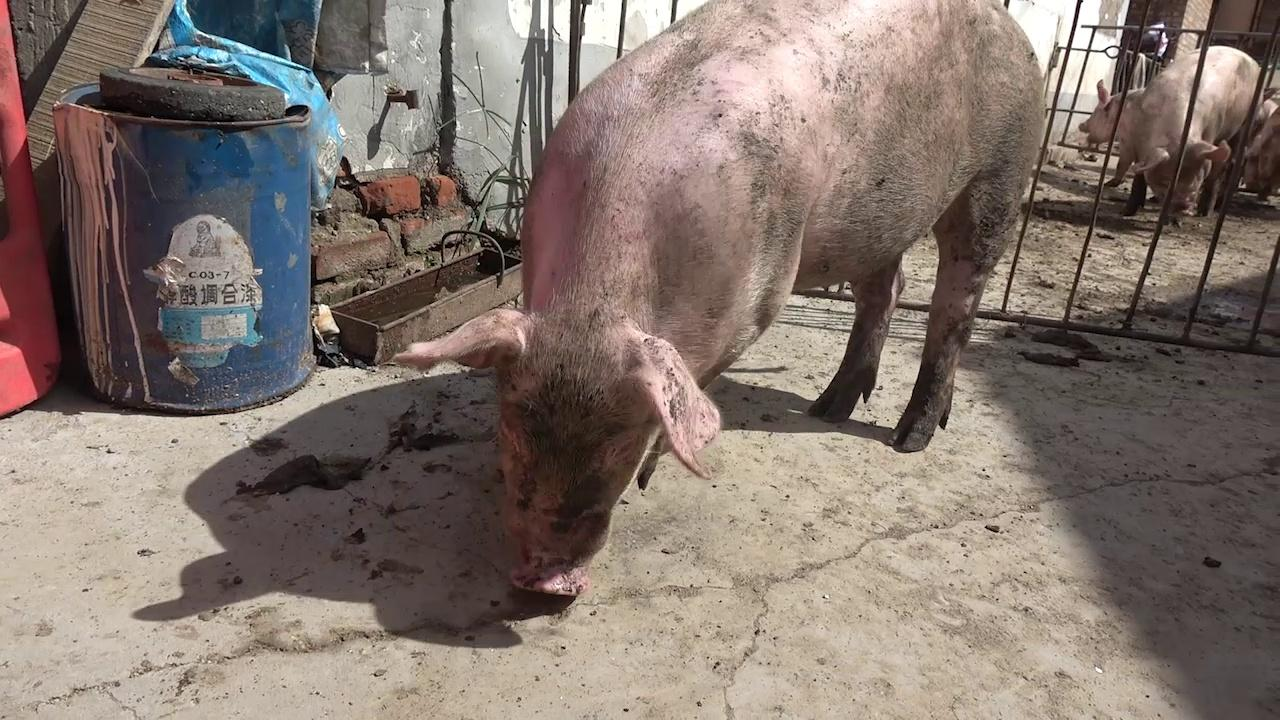Face: (387, 300, 734, 610)
